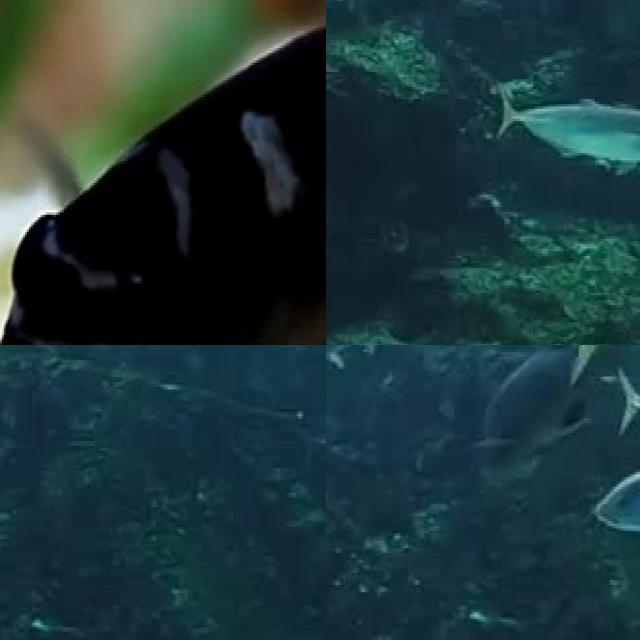fish: (0, 0, 326, 345), (326, 345, 485, 406)
